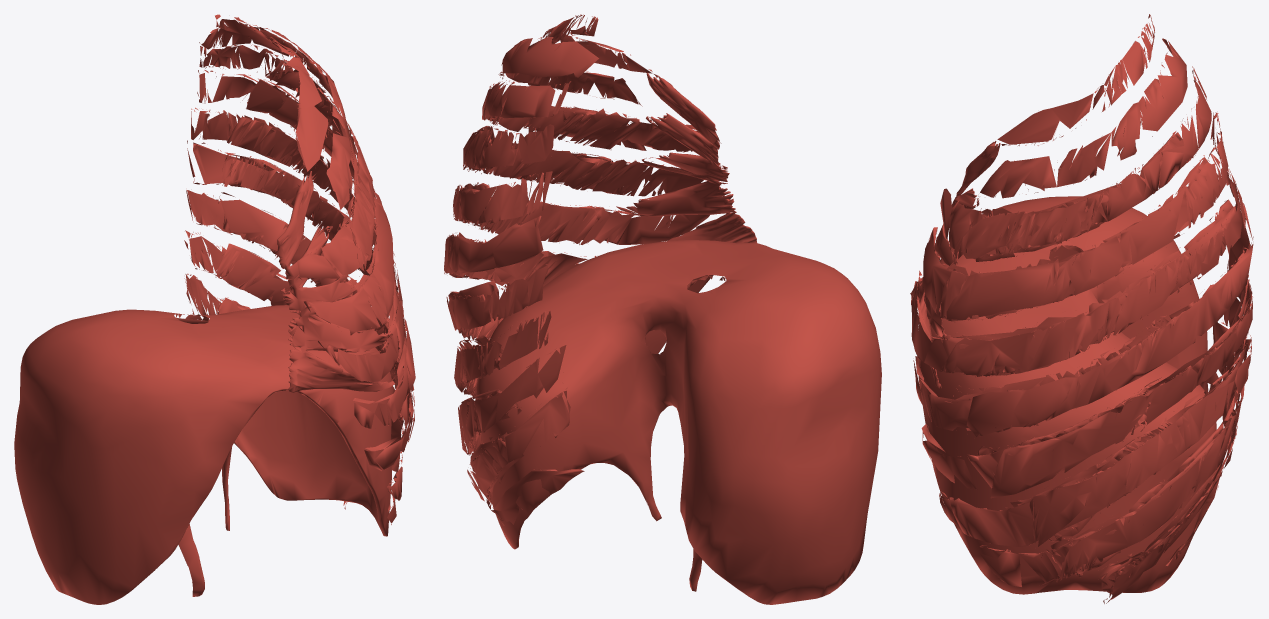
The model's file is diaphragm.glb.
3 renders of one model, left to right at view 1: azimuth 30°, elevation 25°; view 2: azimuth 150°, elevation 25°; view 3: azimuth 270°, elevation 25°, orthographic. The views are drawn at different scales.
Parts seen in each view (by area): view 1: diaphragm, external intercostal muscle, innermost intercostal muscle, internal intercostal muscle, left transversus thoracis; view 2: diaphragm, external intercostal muscle, innermost intercostal muscle, internal intercostal muscle, left transversus thoracis; view 3: external intercostal muscle, diaphragm, internal intercostal muscle, innermost intercostal muscle, left transversus thoracis.
Boxes of the visible parts, x1=… form: diaphragm: x1=14, y1=305, x2=393, y2=604; external intercostal muscle: x1=184, y1=14, x2=415, y2=509; innermost intercostal muscle: x1=215, y1=58, x2=409, y2=444; internal intercostal muscle: x1=216, y1=60, x2=413, y2=524; left transversus thoracis: x1=275, y1=171, x2=394, y2=392; diaphragm: x1=476, y1=240, x2=881, y2=604; external intercostal muscle: x1=444, y1=14, x2=658, y2=512; innermost intercostal muscle: x1=448, y1=86, x2=653, y2=508; internal intercostal muscle: x1=449, y1=84, x2=720, y2=525; left transversus thoracis: x1=616, y1=73, x2=756, y2=243; external intercostal muscle: x1=941, y1=14, x2=1253, y2=603; diaphragm: x1=917, y1=196, x2=1216, y2=594; internal intercostal muscle: x1=911, y1=134, x2=1251, y2=594; innermost intercostal muscle: x1=938, y1=131, x2=1249, y2=582; left transversus thoracis: x1=910, y1=141, x2=1000, y2=388.
Bounding box in the file's own units: 0.2583 × 0.3793 × 0.2062.
